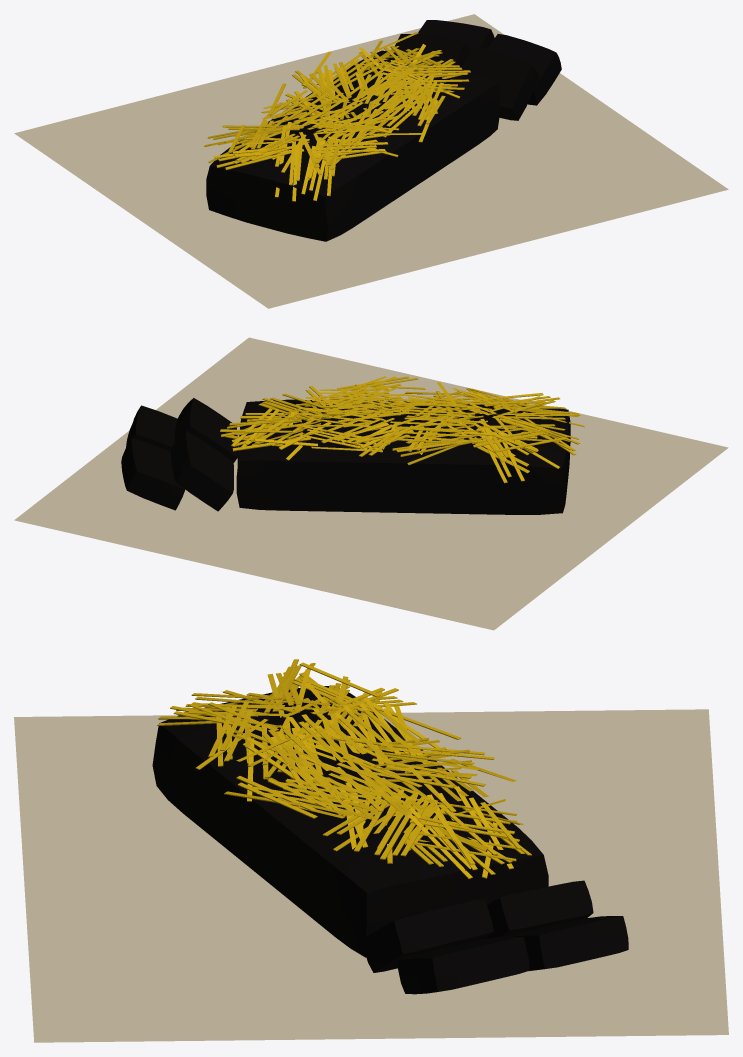
File: bronis.FBX
The picture shows the model from 3 angles, top to bottom: view 1: azimuth 30°, elevation 25°; view 2: azimuth 150°, elevation 25°; view 3: azimuth 270°, elevation 25°; orthographic projection. The views are drawn at different scales.
Visible parts, largest first — view 1: Plane001, Box001, Box002, Box003, Box004, Box005; view 2: Plane001, Box001, Box004, Box005, Box002, Box003; view 3: Plane001, Box001, Box003, Box002, Box005, Box004.
Part boxes in pixels (x1,y1,x2,y2): Plane001: (14, 14, 728, 308); Box001: (206, 50, 499, 241); Box002: (461, 46, 539, 120); Box003: (487, 34, 561, 105); Box004: (394, 34, 469, 67); Box005: (417, 20, 494, 49); Plane001: (14, 337, 728, 630); Box001: (236, 399, 570, 514); Box004: (170, 430, 233, 511); Box005: (121, 437, 185, 510); Box002: (174, 398, 237, 462); Box003: (126, 405, 177, 451); Plane001: (14, 709, 728, 1042); Box001: (152, 686, 548, 957); Box003: (396, 936, 529, 994); Box002: (361, 899, 493, 972); Box005: (503, 916, 628, 970); Box004: (484, 880, 593, 938).
Size of the model in its own units: 153 by 22.05 by 139.
